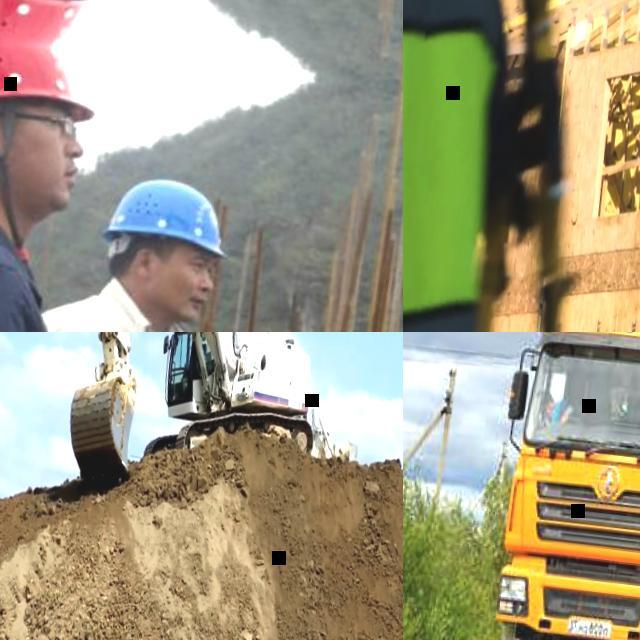helmet: (100, 172, 237, 260), (0, 30, 99, 144), (0, 0, 116, 60)
vest: (403, 0, 540, 332), (543, 396, 570, 425)
